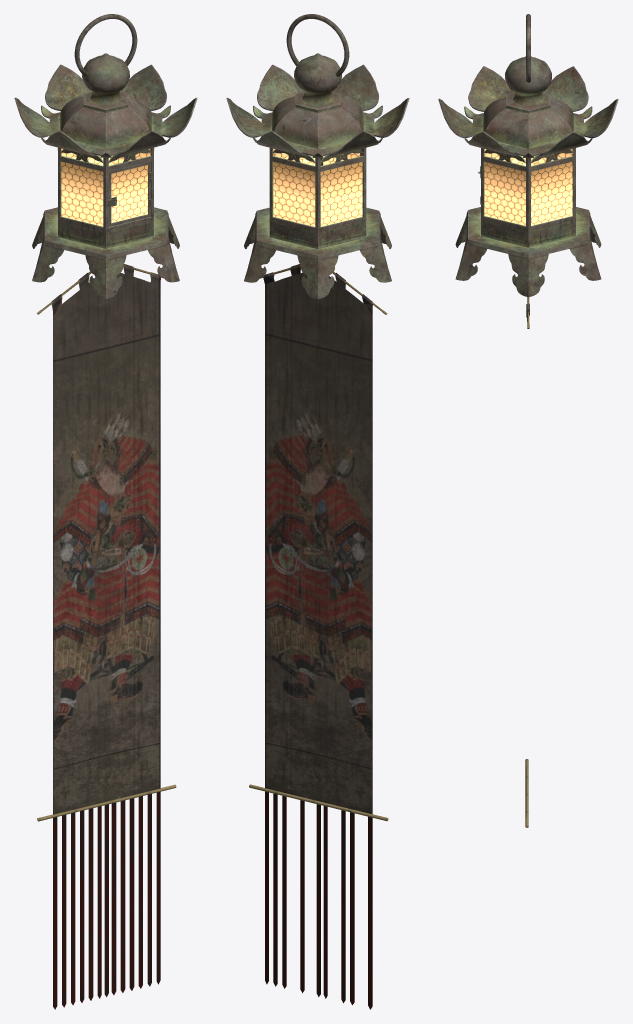
The model's file is SM_Lanter_L.fbx.
3 views of the same model, side by side, from view 1: azimuth 30°, elevation 25°; view 2: azimuth 150°, elevation 25°; view 3: azimuth 270°, elevation 25° (orthographic).
Visible parts, largest first — view 1: SM_Lanter_L_LOD0; view 2: SM_Lanter_L_LOD0; view 3: SM_Lanter_L_LOD0.
Part boxes in pixels (<box>): SM_Lanter_L_LOD0: <box>14,14,197,1009</box>; SM_Lanter_L_LOD0: <box>226,14,409,1009</box>; SM_Lanter_L_LOD0: <box>438,14,618,827</box>.
Bounding box in the file's own units: 377 × 405 × 2393.
